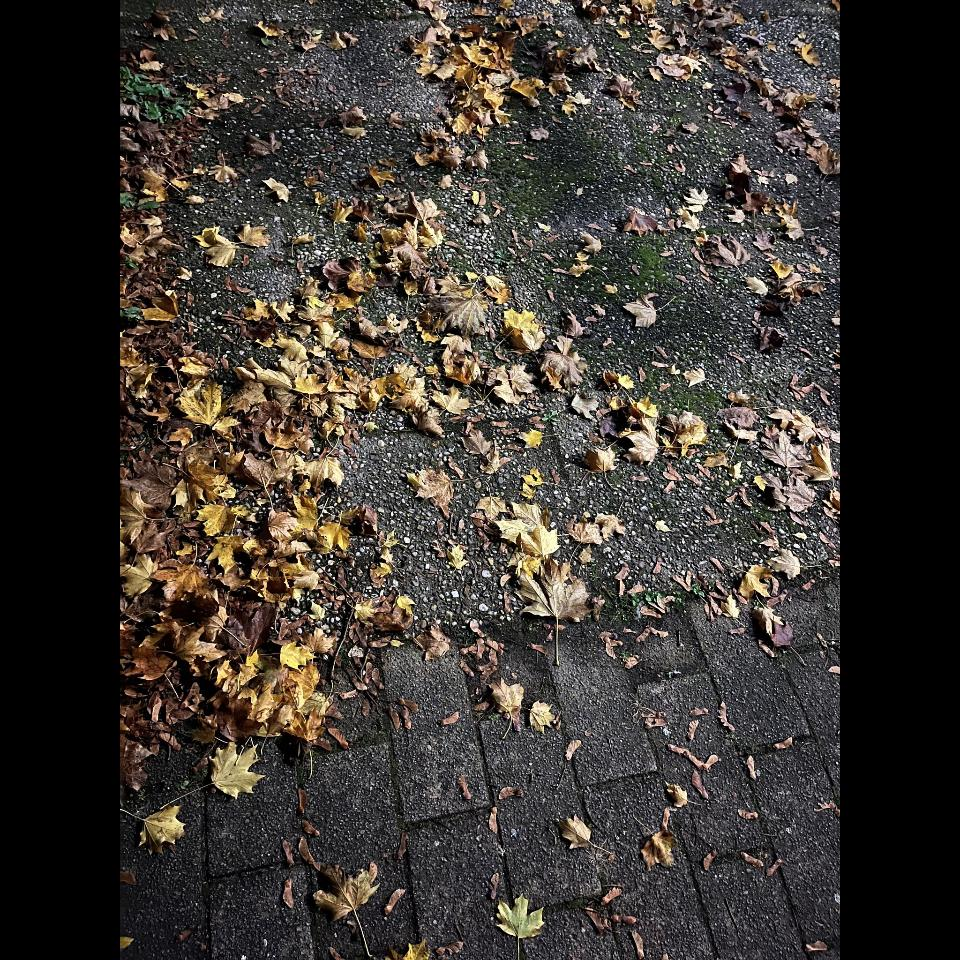weed: (120, 57, 191, 133)
